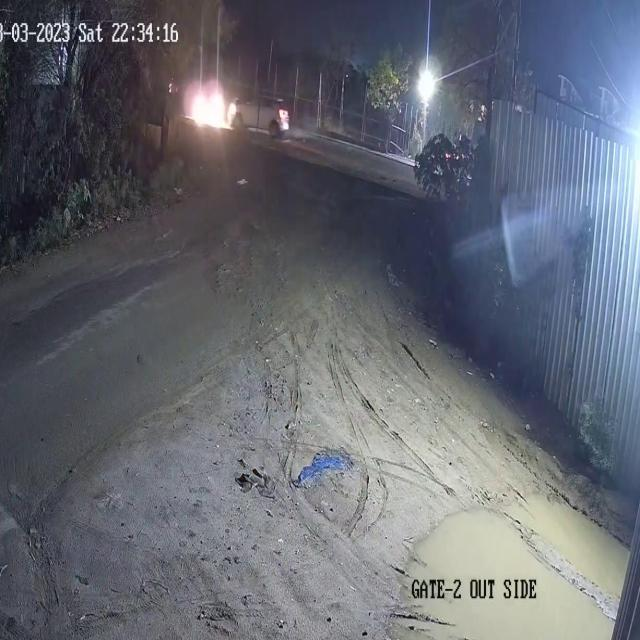accident: (184, 70, 294, 142)
